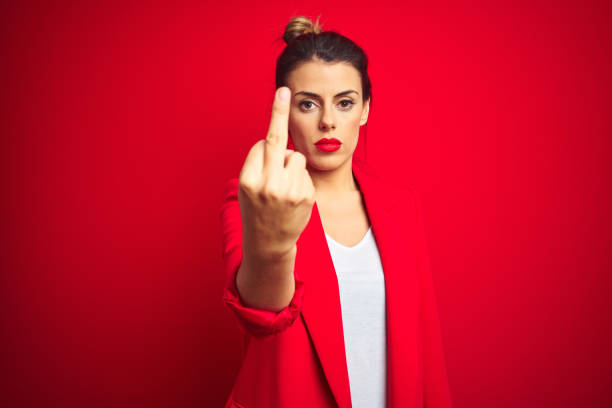insulting_gesture: (240, 84, 315, 250)
